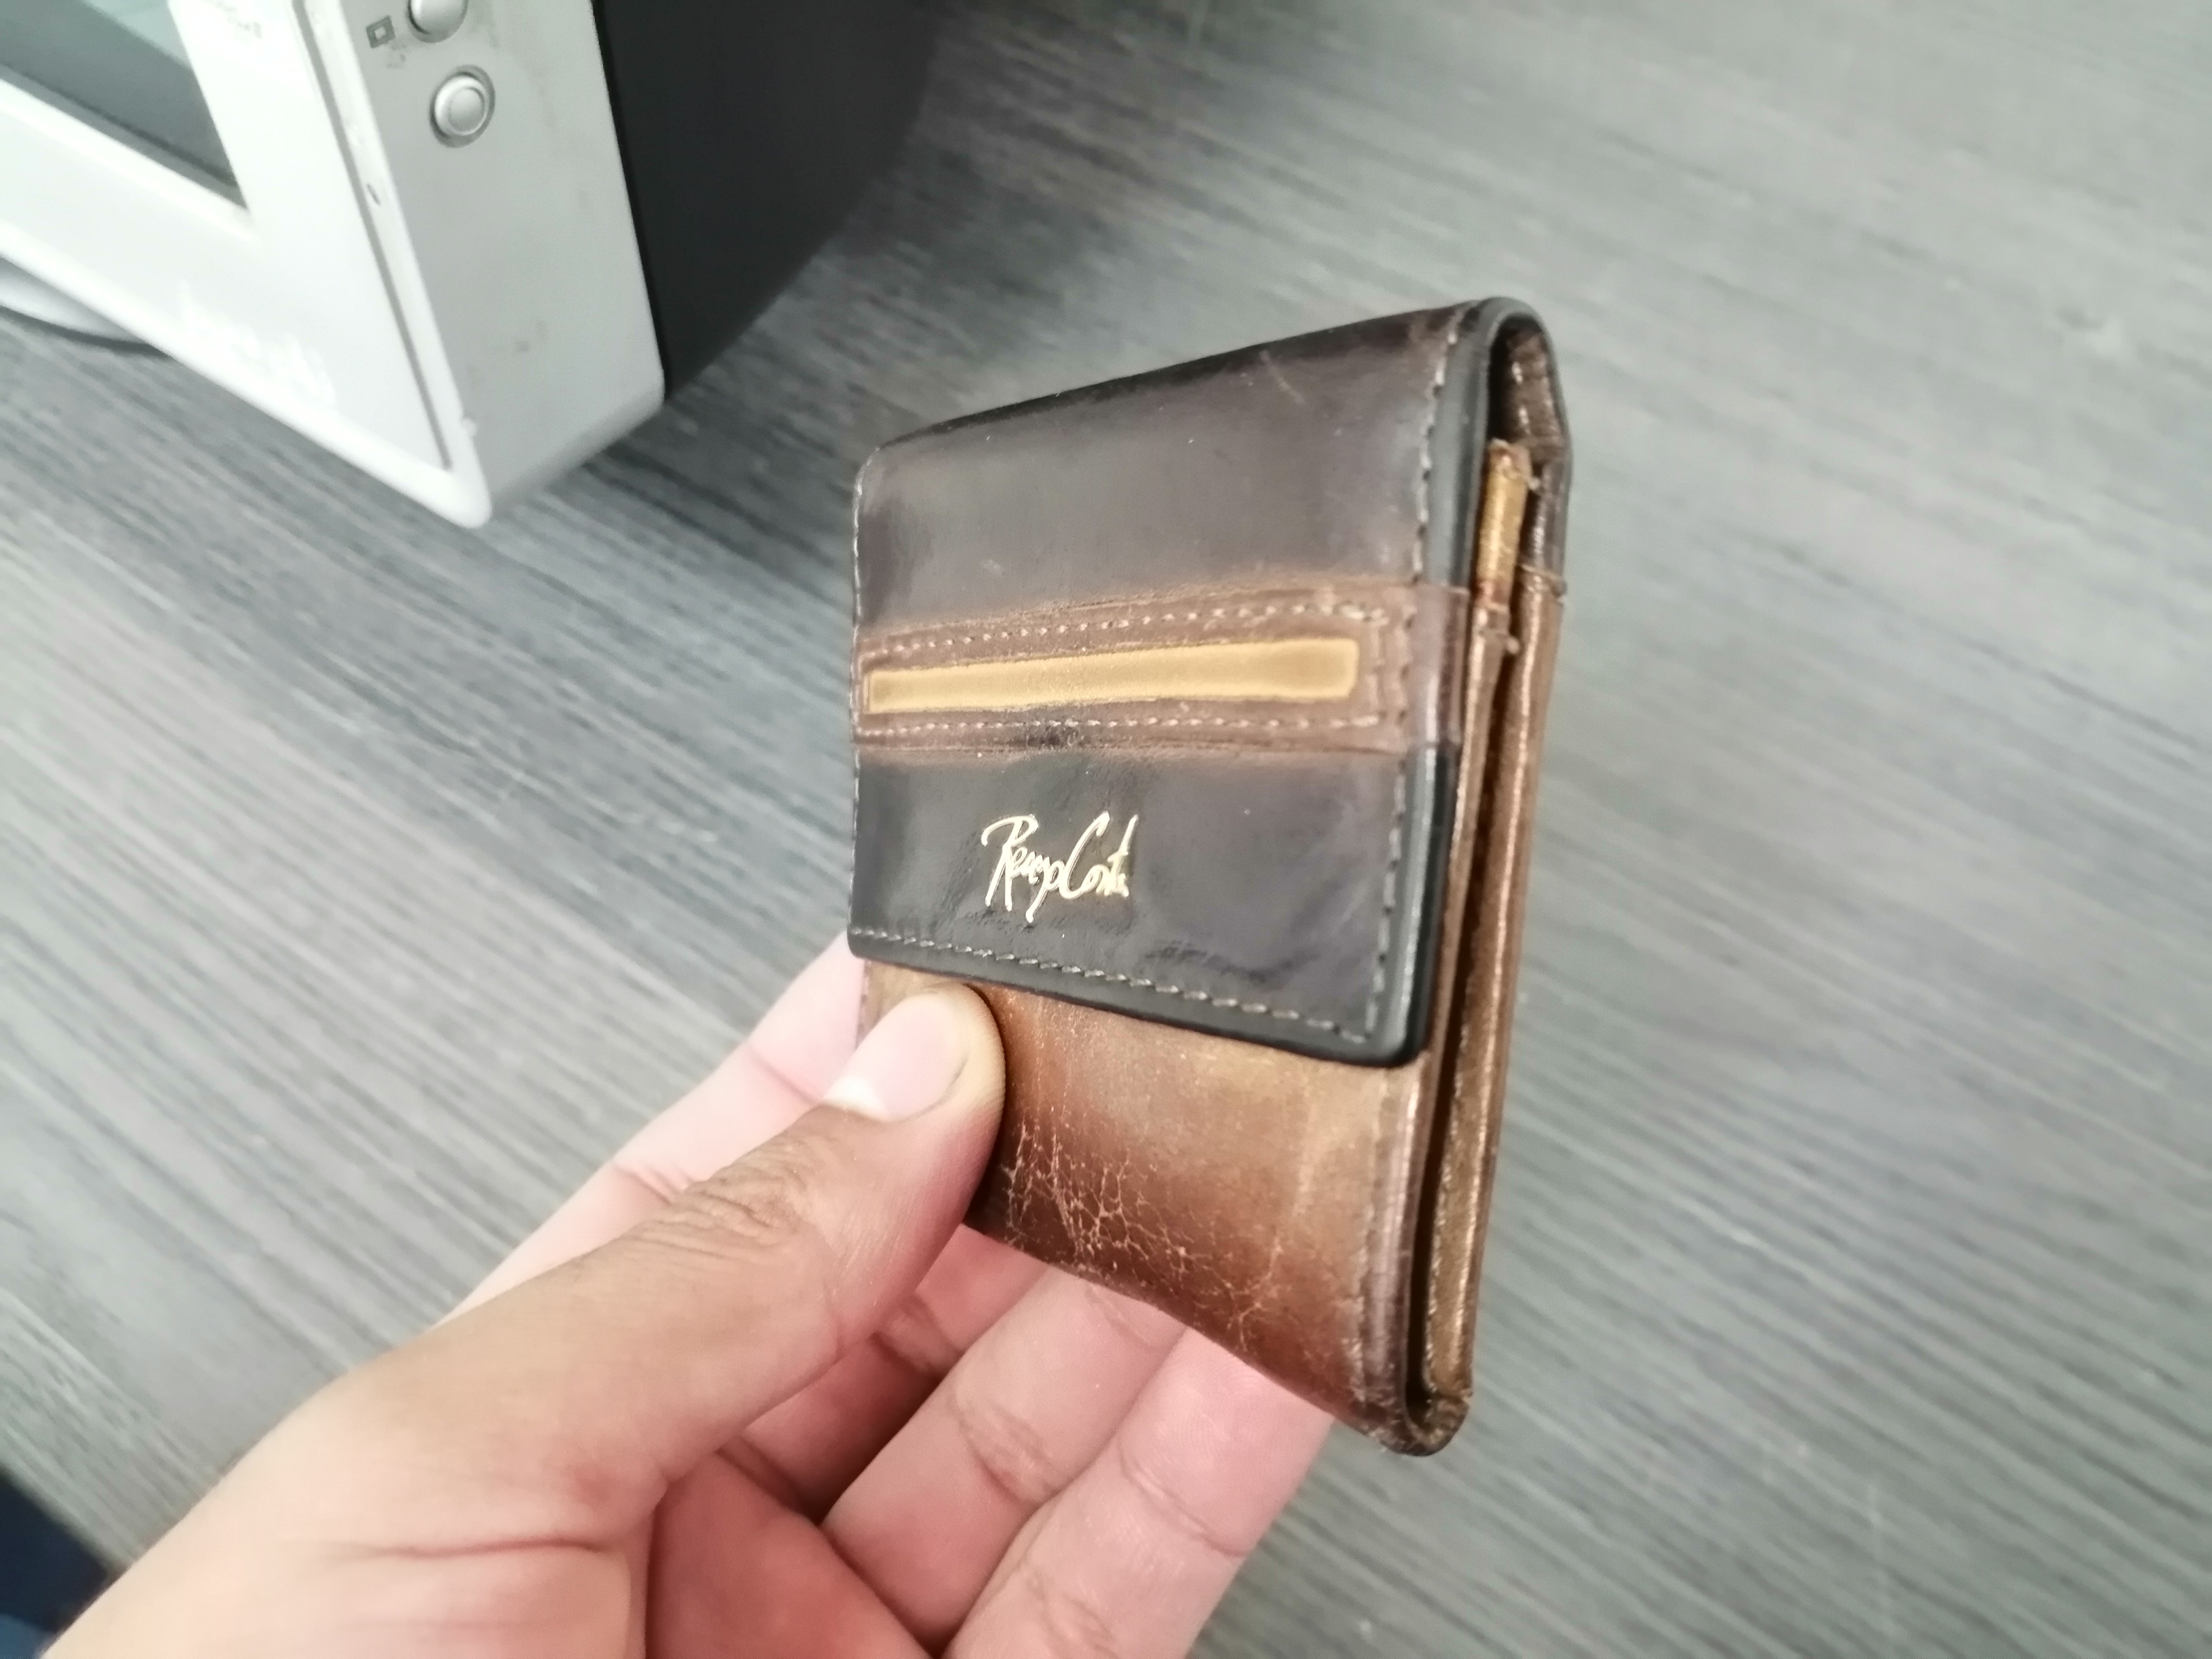monedero: (831, 275, 1594, 1520)
